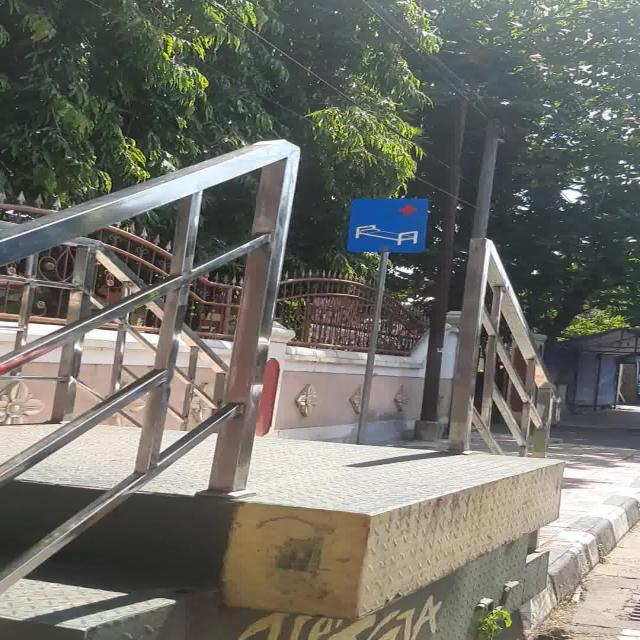Rumah Sakit: (347, 199, 427, 253)
